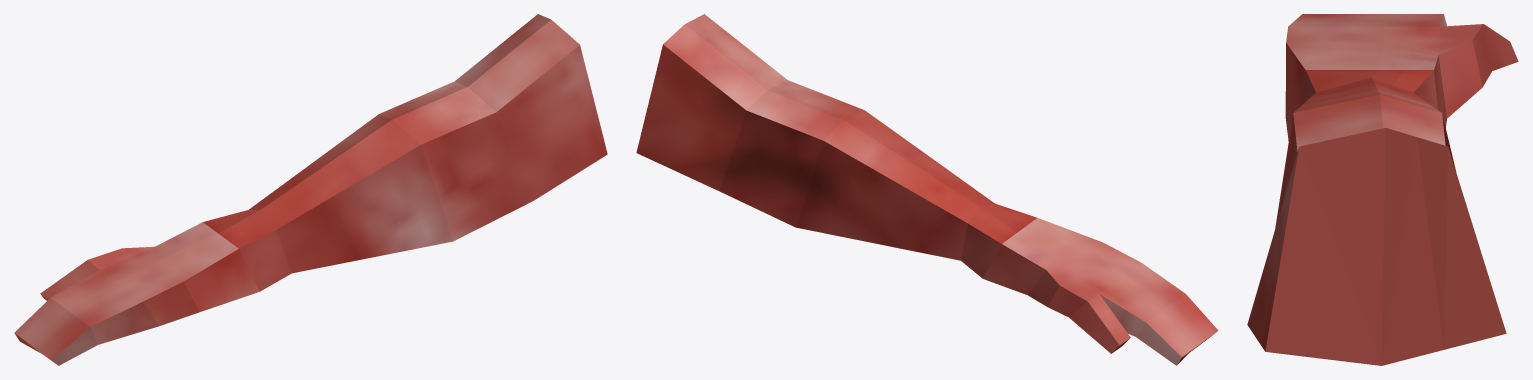
The model's file is GoatMan_Gib_Arm2.fbx.
3 renders of one model, left to right at view 1: azimuth 30°, elevation 25°; view 2: azimuth 150°, elevation 25°; view 3: azimuth 270°, elevation 25°, orthographic. The views are drawn at different scales.
Visible parts, largest first — view 1: Body; view 2: Body; view 3: Body.
Part boxes in pixels (bbox=[...]): Body: bbox=[14, 14, 607, 365]; Body: bbox=[636, 14, 1218, 365]; Body: bbox=[1247, 14, 1518, 365].
Size of the model in its own units: 98.22 by 36.23 by 24.
